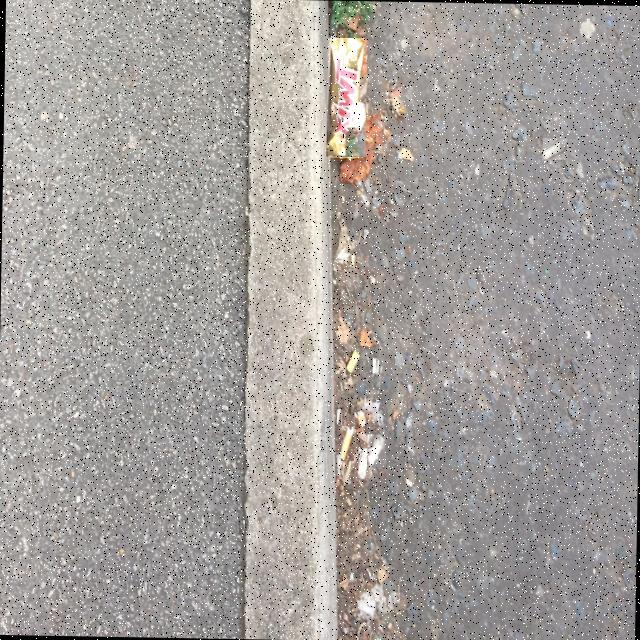Cigarette: (367, 435, 385, 466), (542, 138, 567, 159), (341, 426, 354, 460), (359, 448, 371, 478), (345, 352, 359, 375), (336, 409, 340, 423), (373, 359, 376, 374)
Other plastic: (327, 37, 366, 156)
